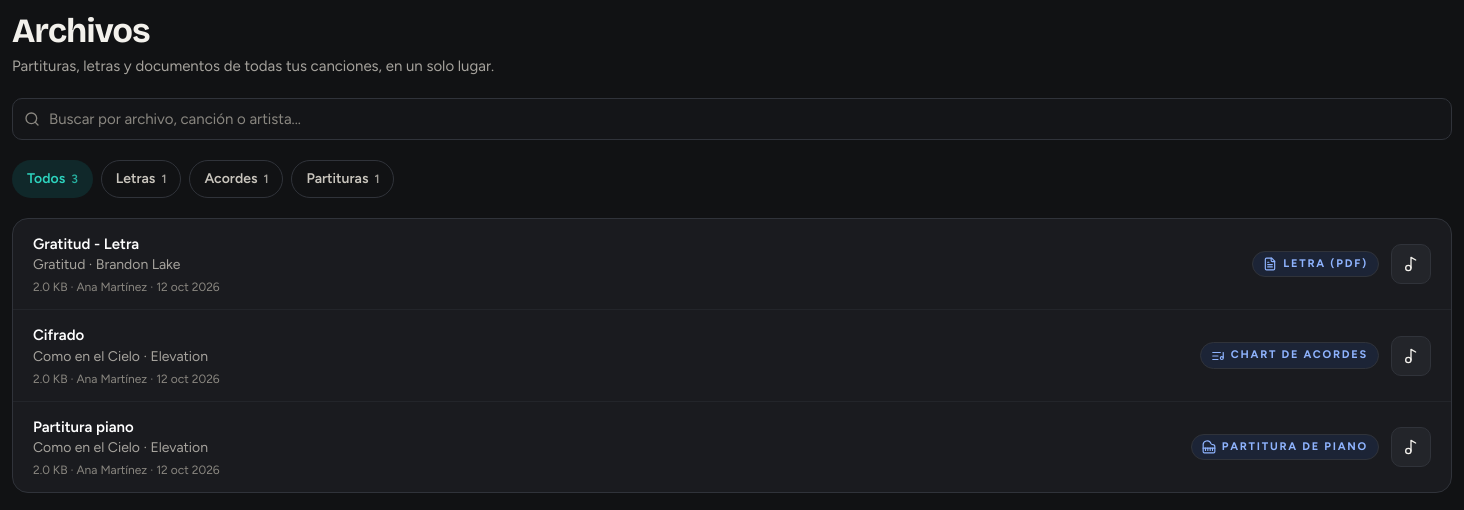
Test case: ArchivesPage › filtra por tipo (solo muestra los grupos que tienen archivos) y busca por canción o artista
The image size is (1464, 510).
Check: the text "Gratitud - Letra" is shown, box [33,235,139,253]
Check: the button "Partituras 1" is shown, box [292,160,394,198]
Click the button "Acordes 1" at (236, 179), box [189,160,283,198]
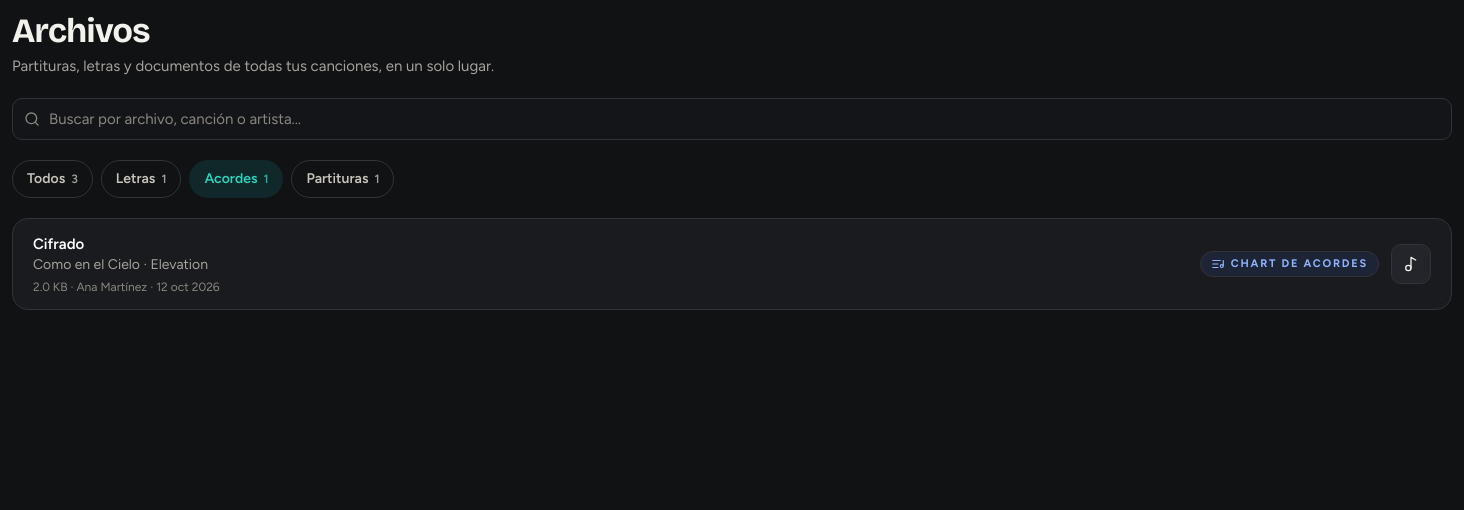
Click the button "Todos 3" at (52, 179), box [12,160,93,198]
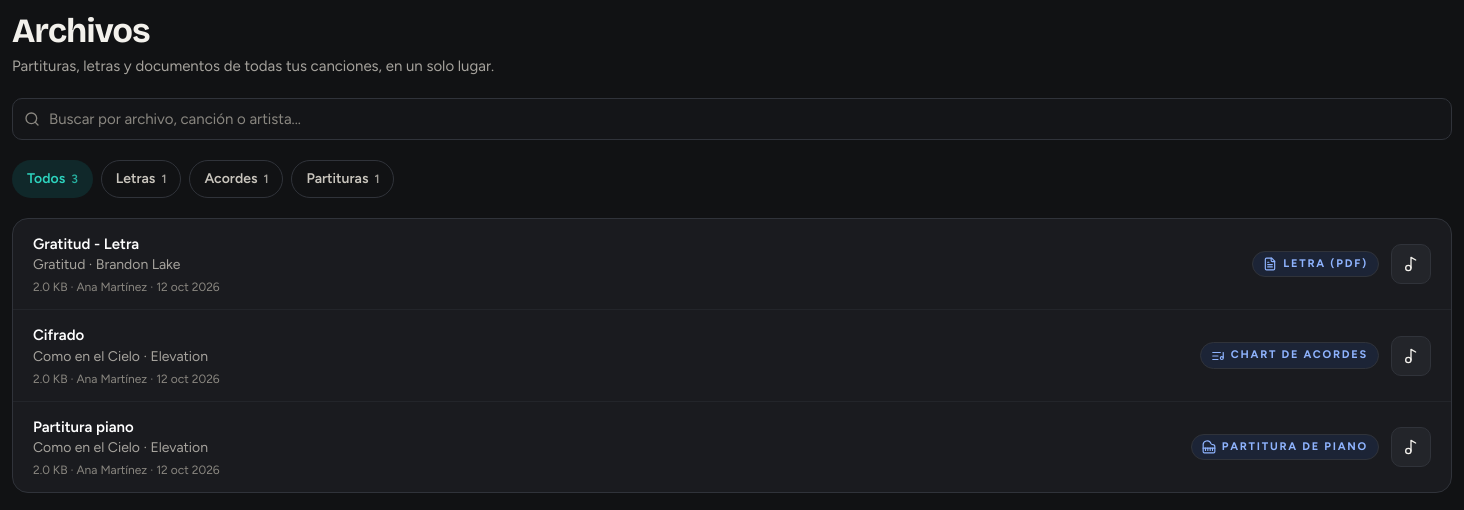
Type "elevacion" into the field named "Buscar archivo" at (732, 119), box [12,98,1452,140]
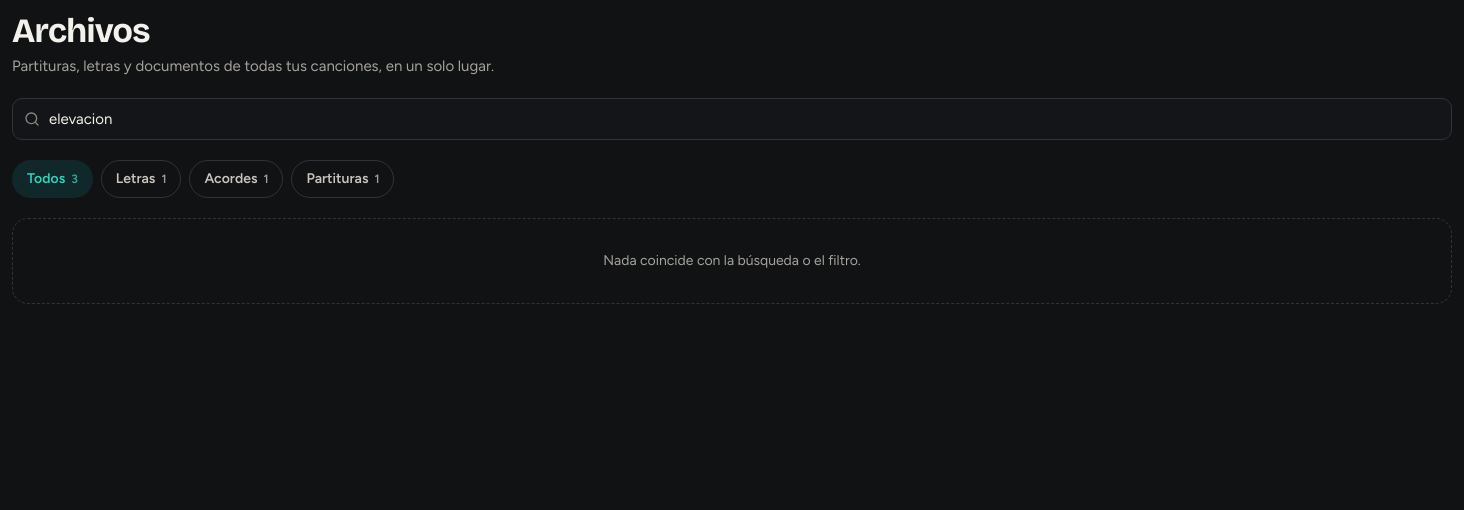
Check: the text "Nada coincide con la búsqueda o el filtro." is shown, box [12,218,1452,304]
Replace the text in the field named "Buscar archivo" with "ELEVATION" at (732, 119), box [12,98,1452,140]
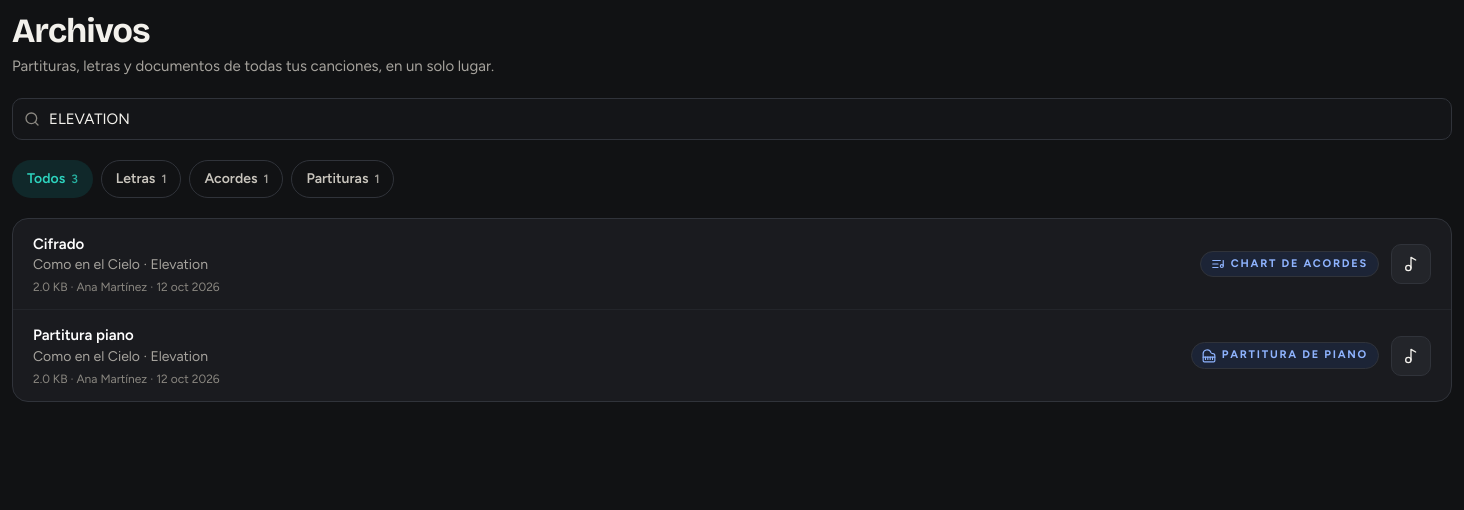
Check: the number of buttons named "Ver " is 2, box [33,233,1379,295]; [33,324,1379,387]
